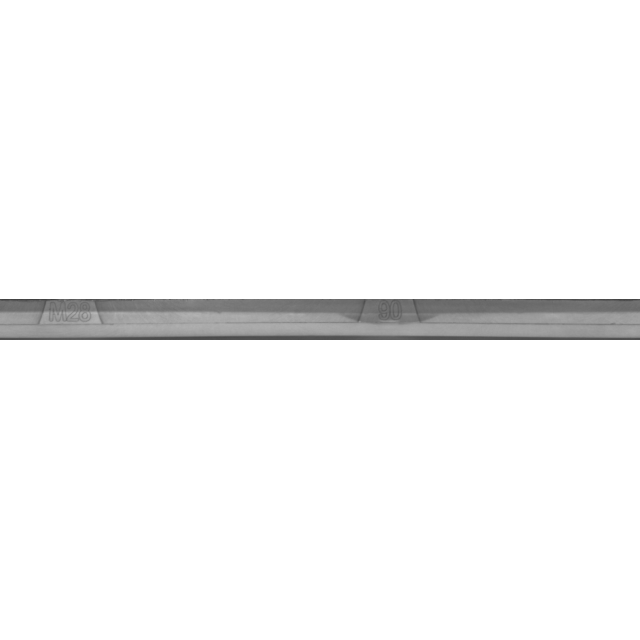mohao: (0, 270, 171, 370)
xuehao: (289, 270, 489, 370)
